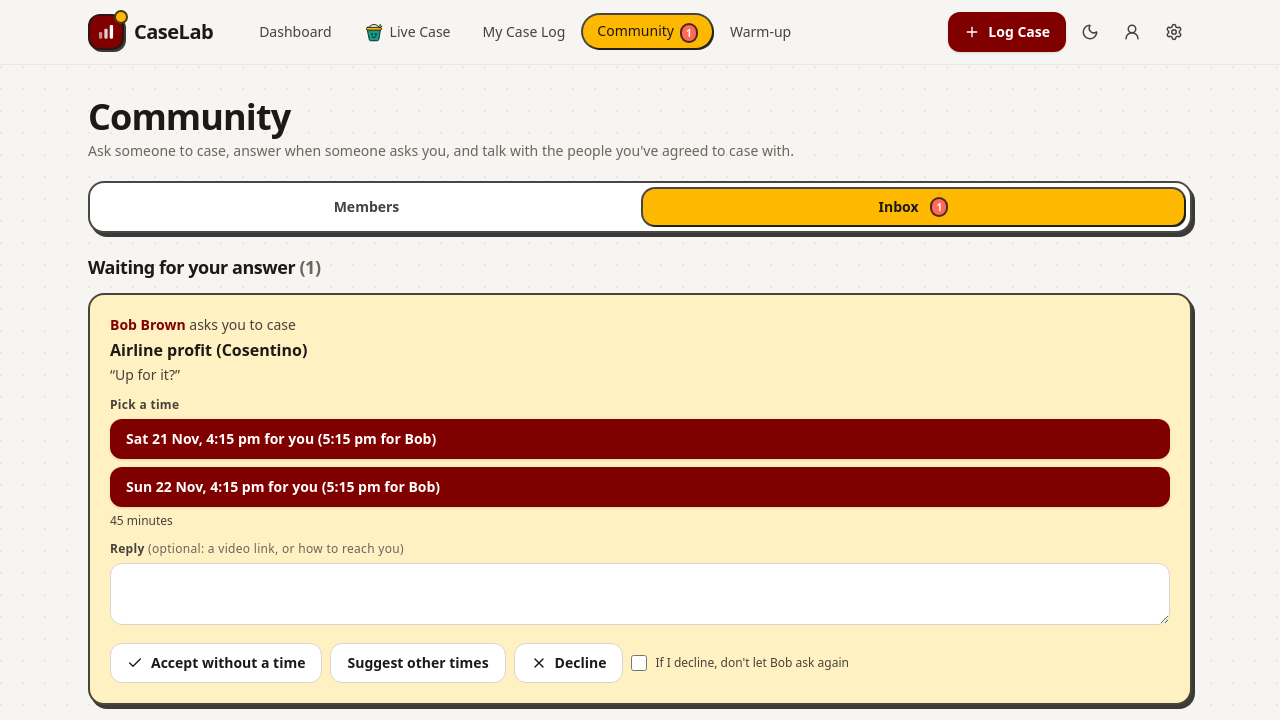
answering a request that came with times › keeps everything and says why when the times have gone since the page loaded
Expected: the heading "Community" is shown, [88,92,290,141]
Type "Sounds good" into the text box labelled "Reply (optional: a video link, or how to reach you)" at (640, 594), box [110,563,1170,625]
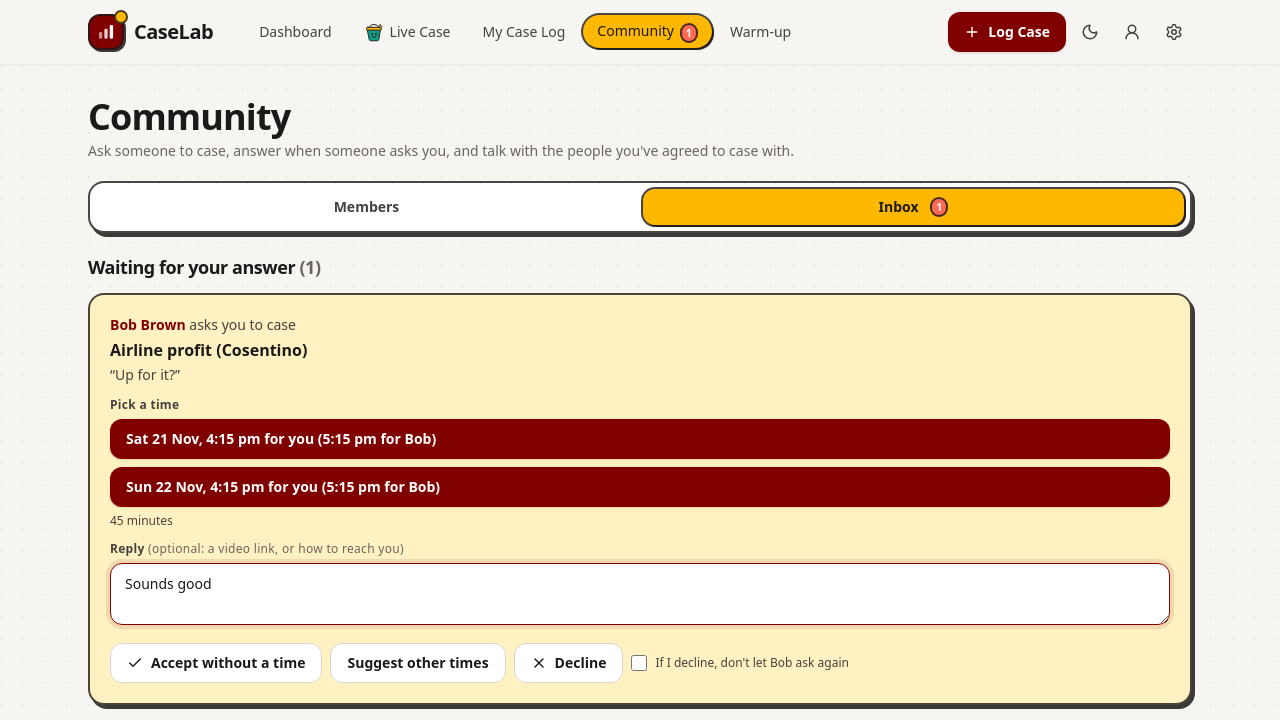
Click the button "Sat 21 Nov, 4:15 pm for you (5:15 pm for Bob)" at (281, 438), box [110,419,1170,459]
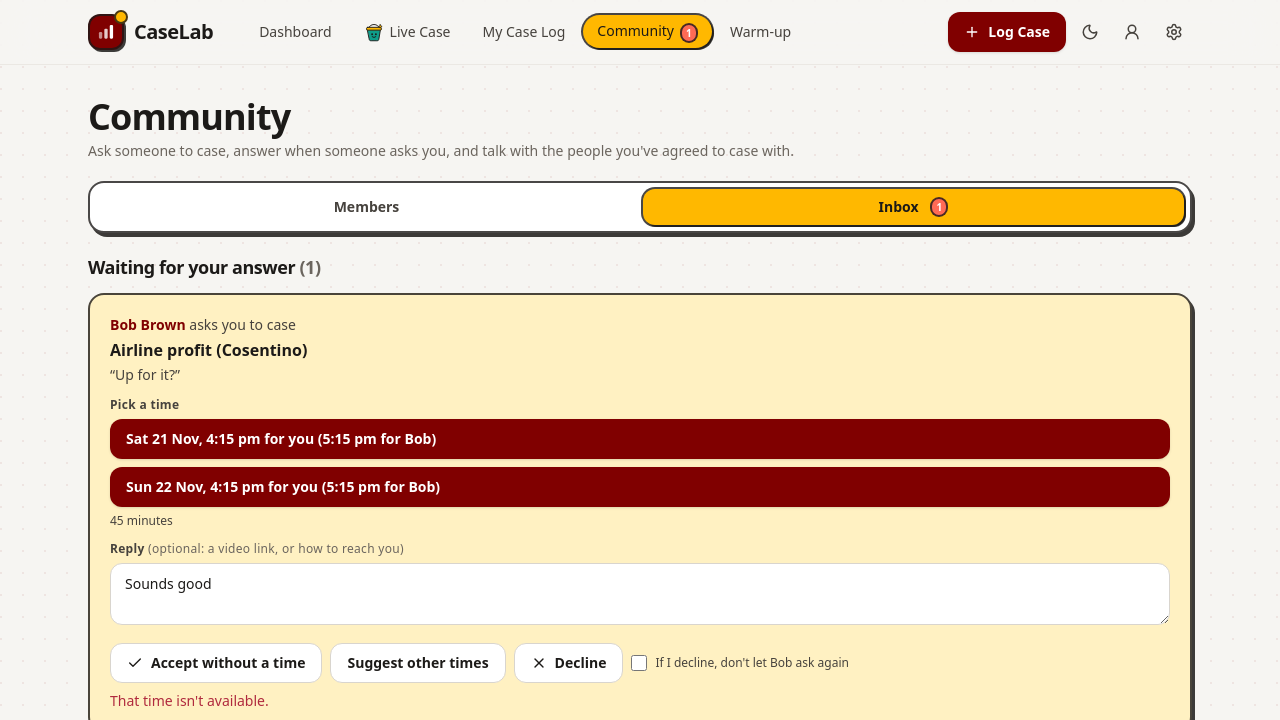
Expected: the message reads "That time isn't available.", [110,691,269,710]
